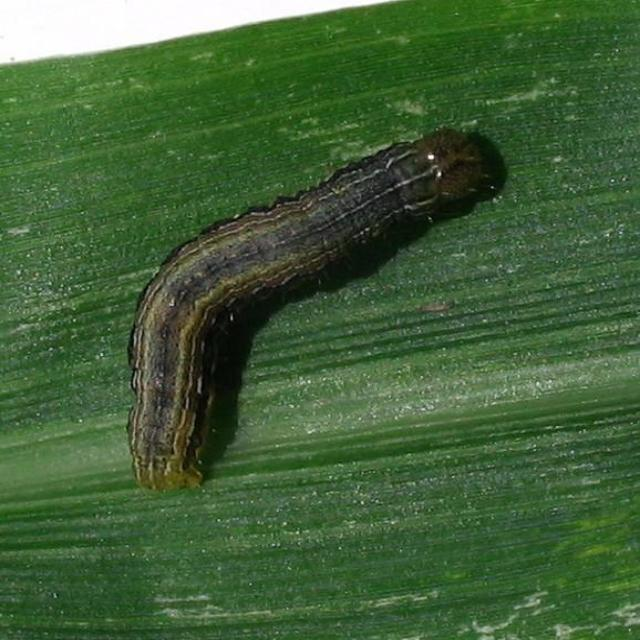army worm: (109, 123, 512, 499)
